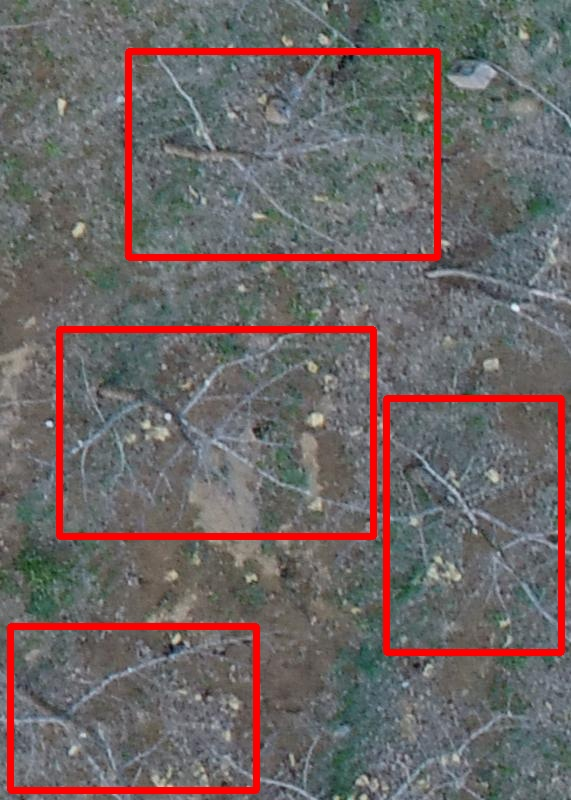apple: (59, 329, 373, 536), (128, 51, 437, 257), (386, 398, 561, 652), (10, 626, 256, 790)
